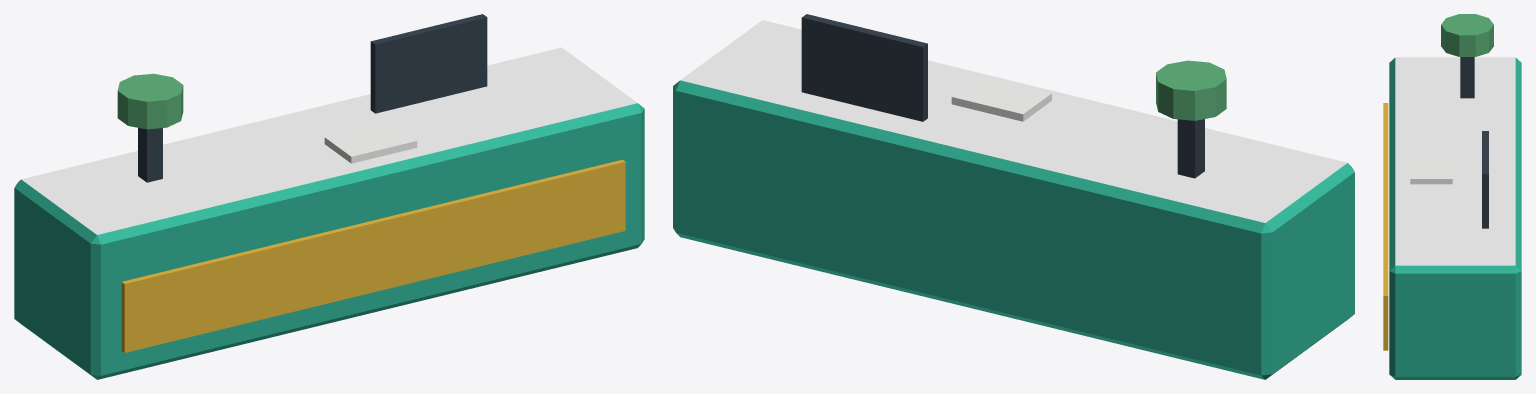
The model's file is reception.fbx.
3 views of the same model, side by side, from view 1: azimuth 30°, elevation 25°; view 2: azimuth 150°, elevation 25°; view 3: azimuth 270°, elevation 25° (orthographic). The views are drawn at different scales.
Parts seen in each view (by area): view 1: reception; view 2: reception; view 3: reception.
Part boxes in pixels (bbox=[...]): reception: bbox=[14, 14, 644, 379]; reception: bbox=[673, 14, 1354, 379]; reception: bbox=[1383, 14, 1521, 379].
Bounding box in the file's own units: 4.2 × 1.7 × 1.15.
